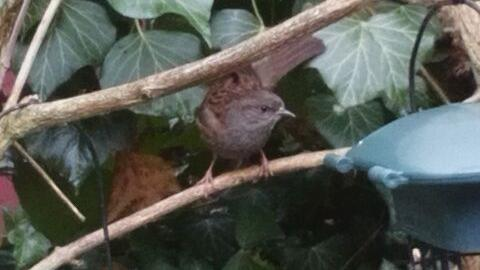dunnock: (194, 31, 327, 199)
